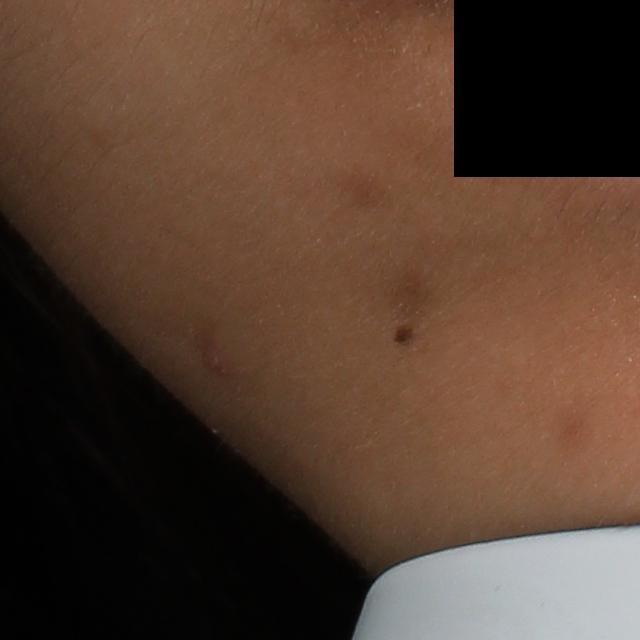nevus: (390, 324, 416, 344)
papule: (203, 340, 230, 374)
